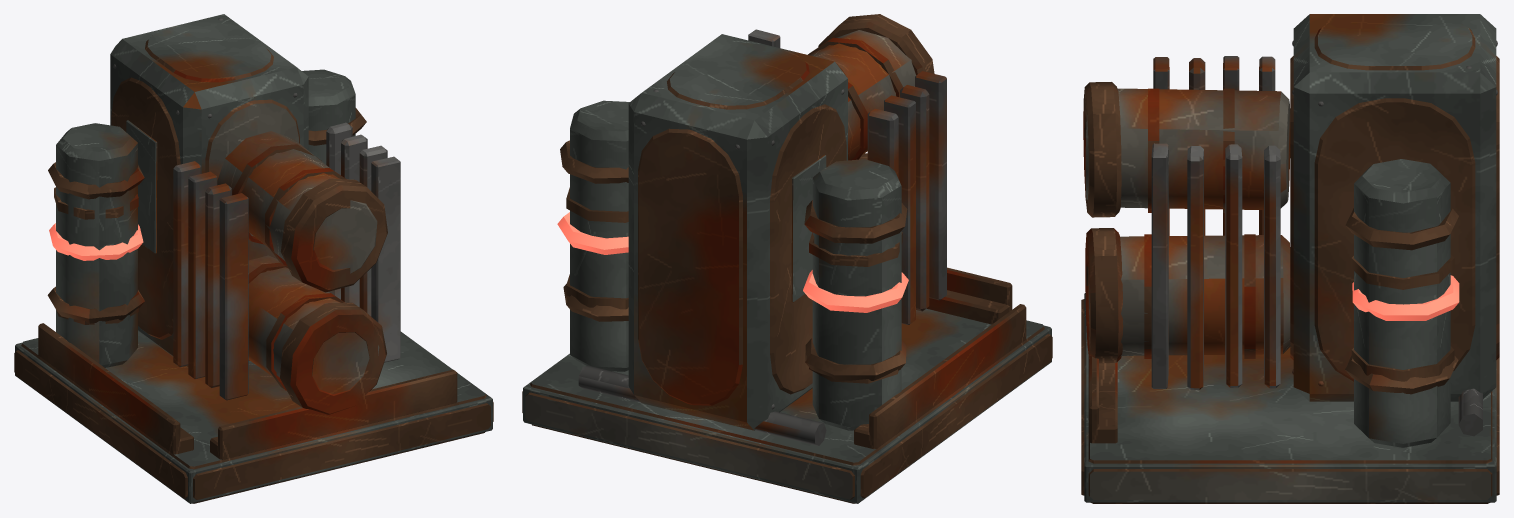
The model's file is R4X_DoubleShotOverdrive.glb.
3 views of the same model, side by side, from view 1: azimuth 30°, elevation 25°; view 2: azimuth 150°, elevation 25°; view 3: azimuth 270°, elevation 25° (orthographic). The views are drawn at different scales.
Visible parts, largest first — view 1: R4X_DoubleShotOverdrive_Body; view 2: R4X_DoubleShotOverdrive_Body; view 3: R4X_DoubleShotOverdrive_Body.
Part boxes in pixels (x1,y1,x2,y2): R4X_DoubleShotOverdrive_Body: [14, 14, 493, 503]; R4X_DoubleShotOverdrive_Body: [522, 14, 1052, 503]; R4X_DoubleShotOverdrive_Body: [1081, 14, 1499, 503].
Size of the model in its own units: 0.52 by 0.52 by 0.52.
Materials: 5 (4 with a texture image).
